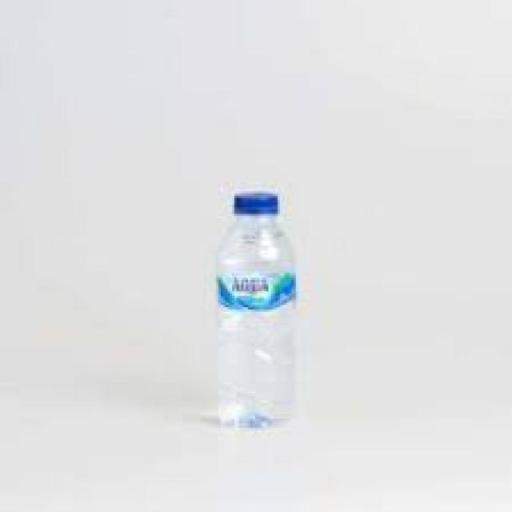plastic: (201, 182, 308, 442)
